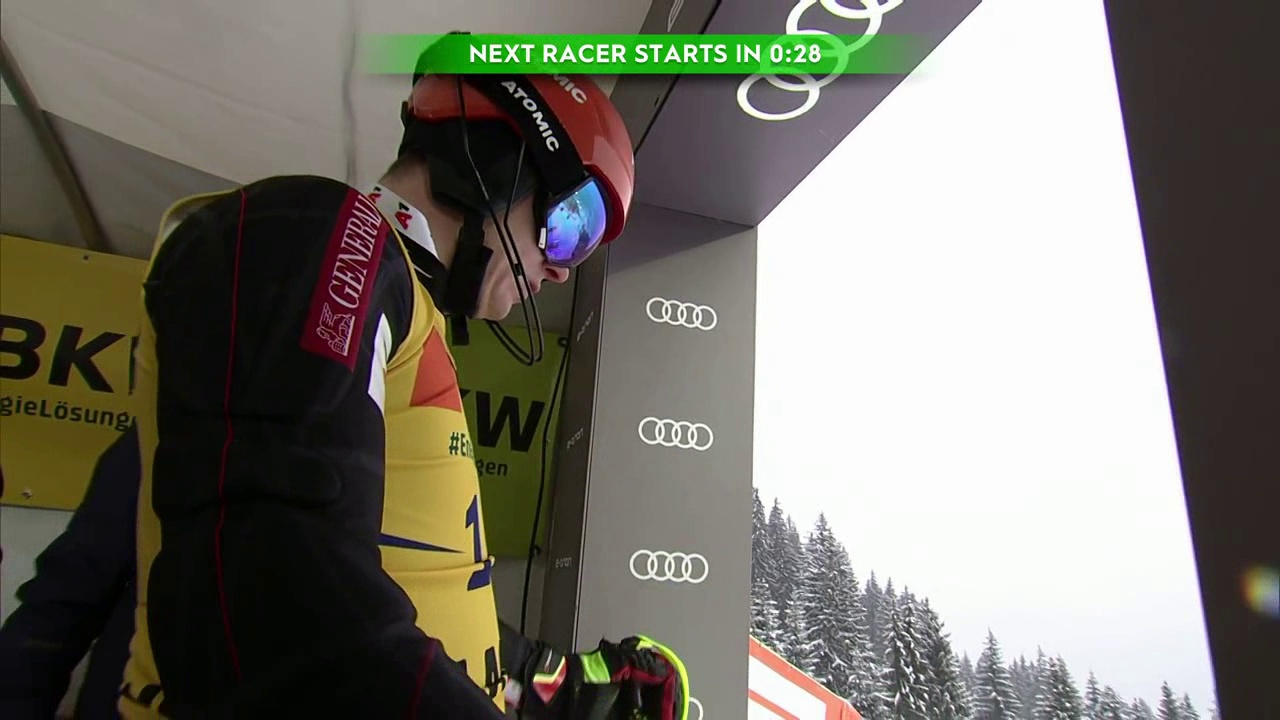audi: (630, 550, 712, 590), (637, 418, 719, 457), (646, 299, 720, 337)
raiffeisen: (1, 286, 144, 414)
